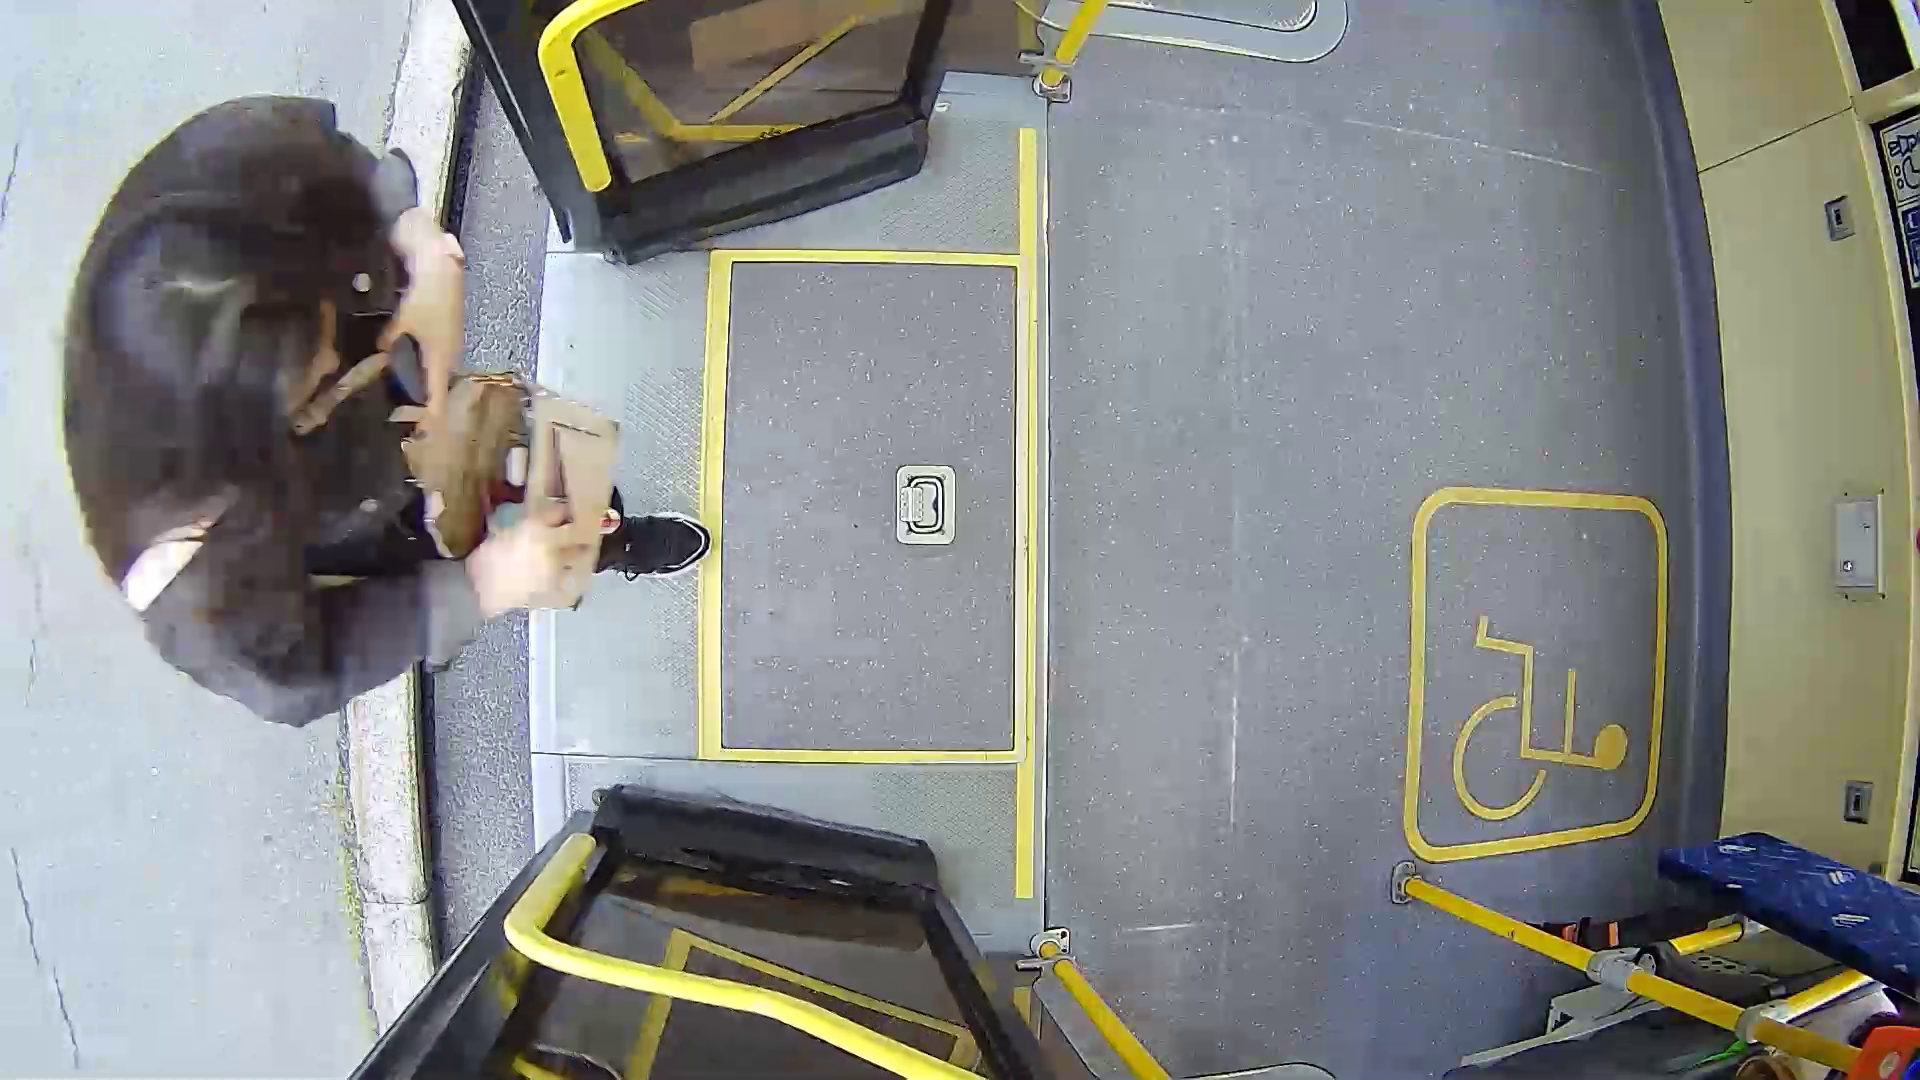person: (69, 111, 801, 696)
